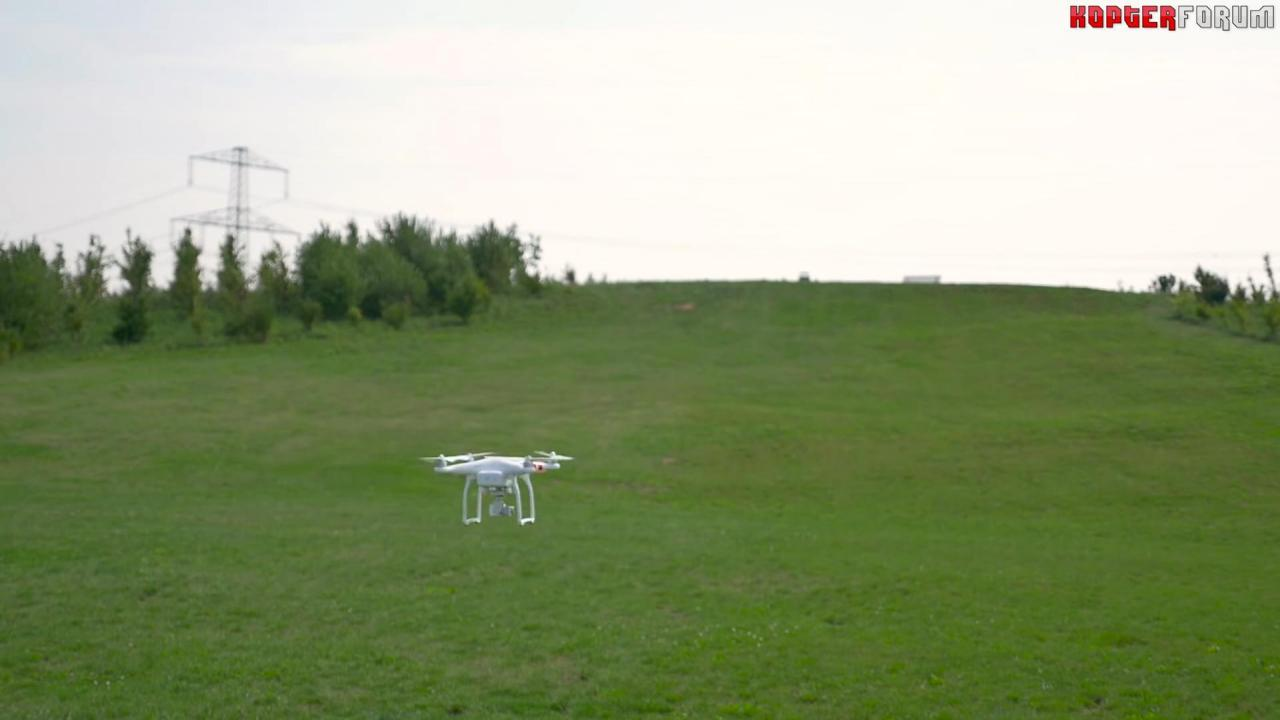Drone: (412, 440, 580, 532)
